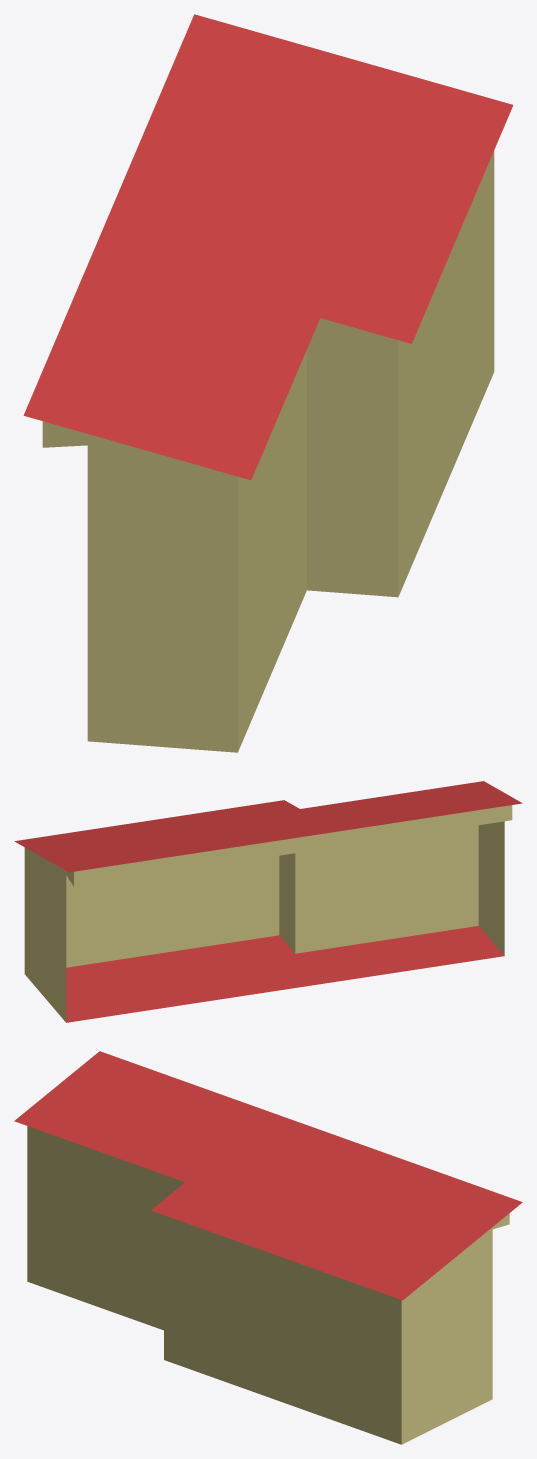
3 renders of one model, top to bottom at view 1: azimuth 30°, elevation 25°; view 2: azimuth 150°, elevation 25°; view 3: azimuth 270°, elevation 25°, orthographic. The views are drawn at different scales.
Size of the model in its own units: 26.26 by 26.74 by 10.91.
